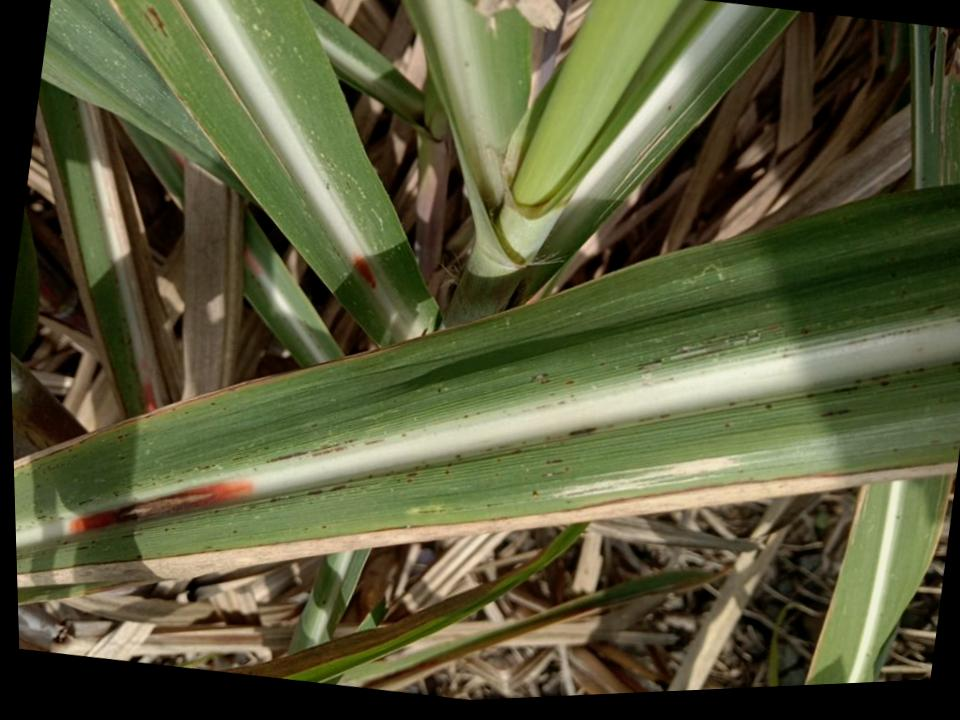RedRot: (67, 479, 256, 534), (138, 353, 157, 412), (352, 248, 379, 289)
Rust: (441, 412, 671, 476), (719, 360, 960, 420), (77, 444, 272, 509), (633, 318, 813, 388), (267, 461, 431, 507), (263, 435, 389, 463), (528, 369, 576, 412), (74, 529, 145, 554), (138, 4, 169, 38), (539, 455, 573, 480), (113, 430, 135, 445)
